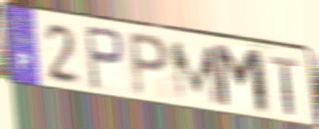2: (43, 22, 82, 87)
M: (211, 41, 273, 118), (168, 40, 226, 107)
P: (126, 29, 173, 101), (83, 23, 126, 93)
T: (268, 54, 300, 118)
